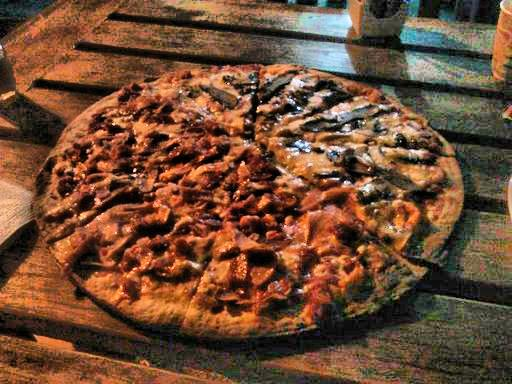pizza: (34, 32, 468, 346)
